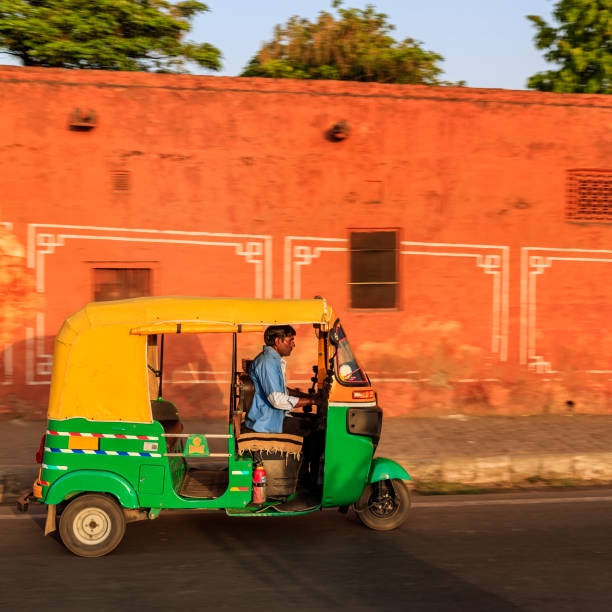threewheel: (33, 297, 411, 557)
